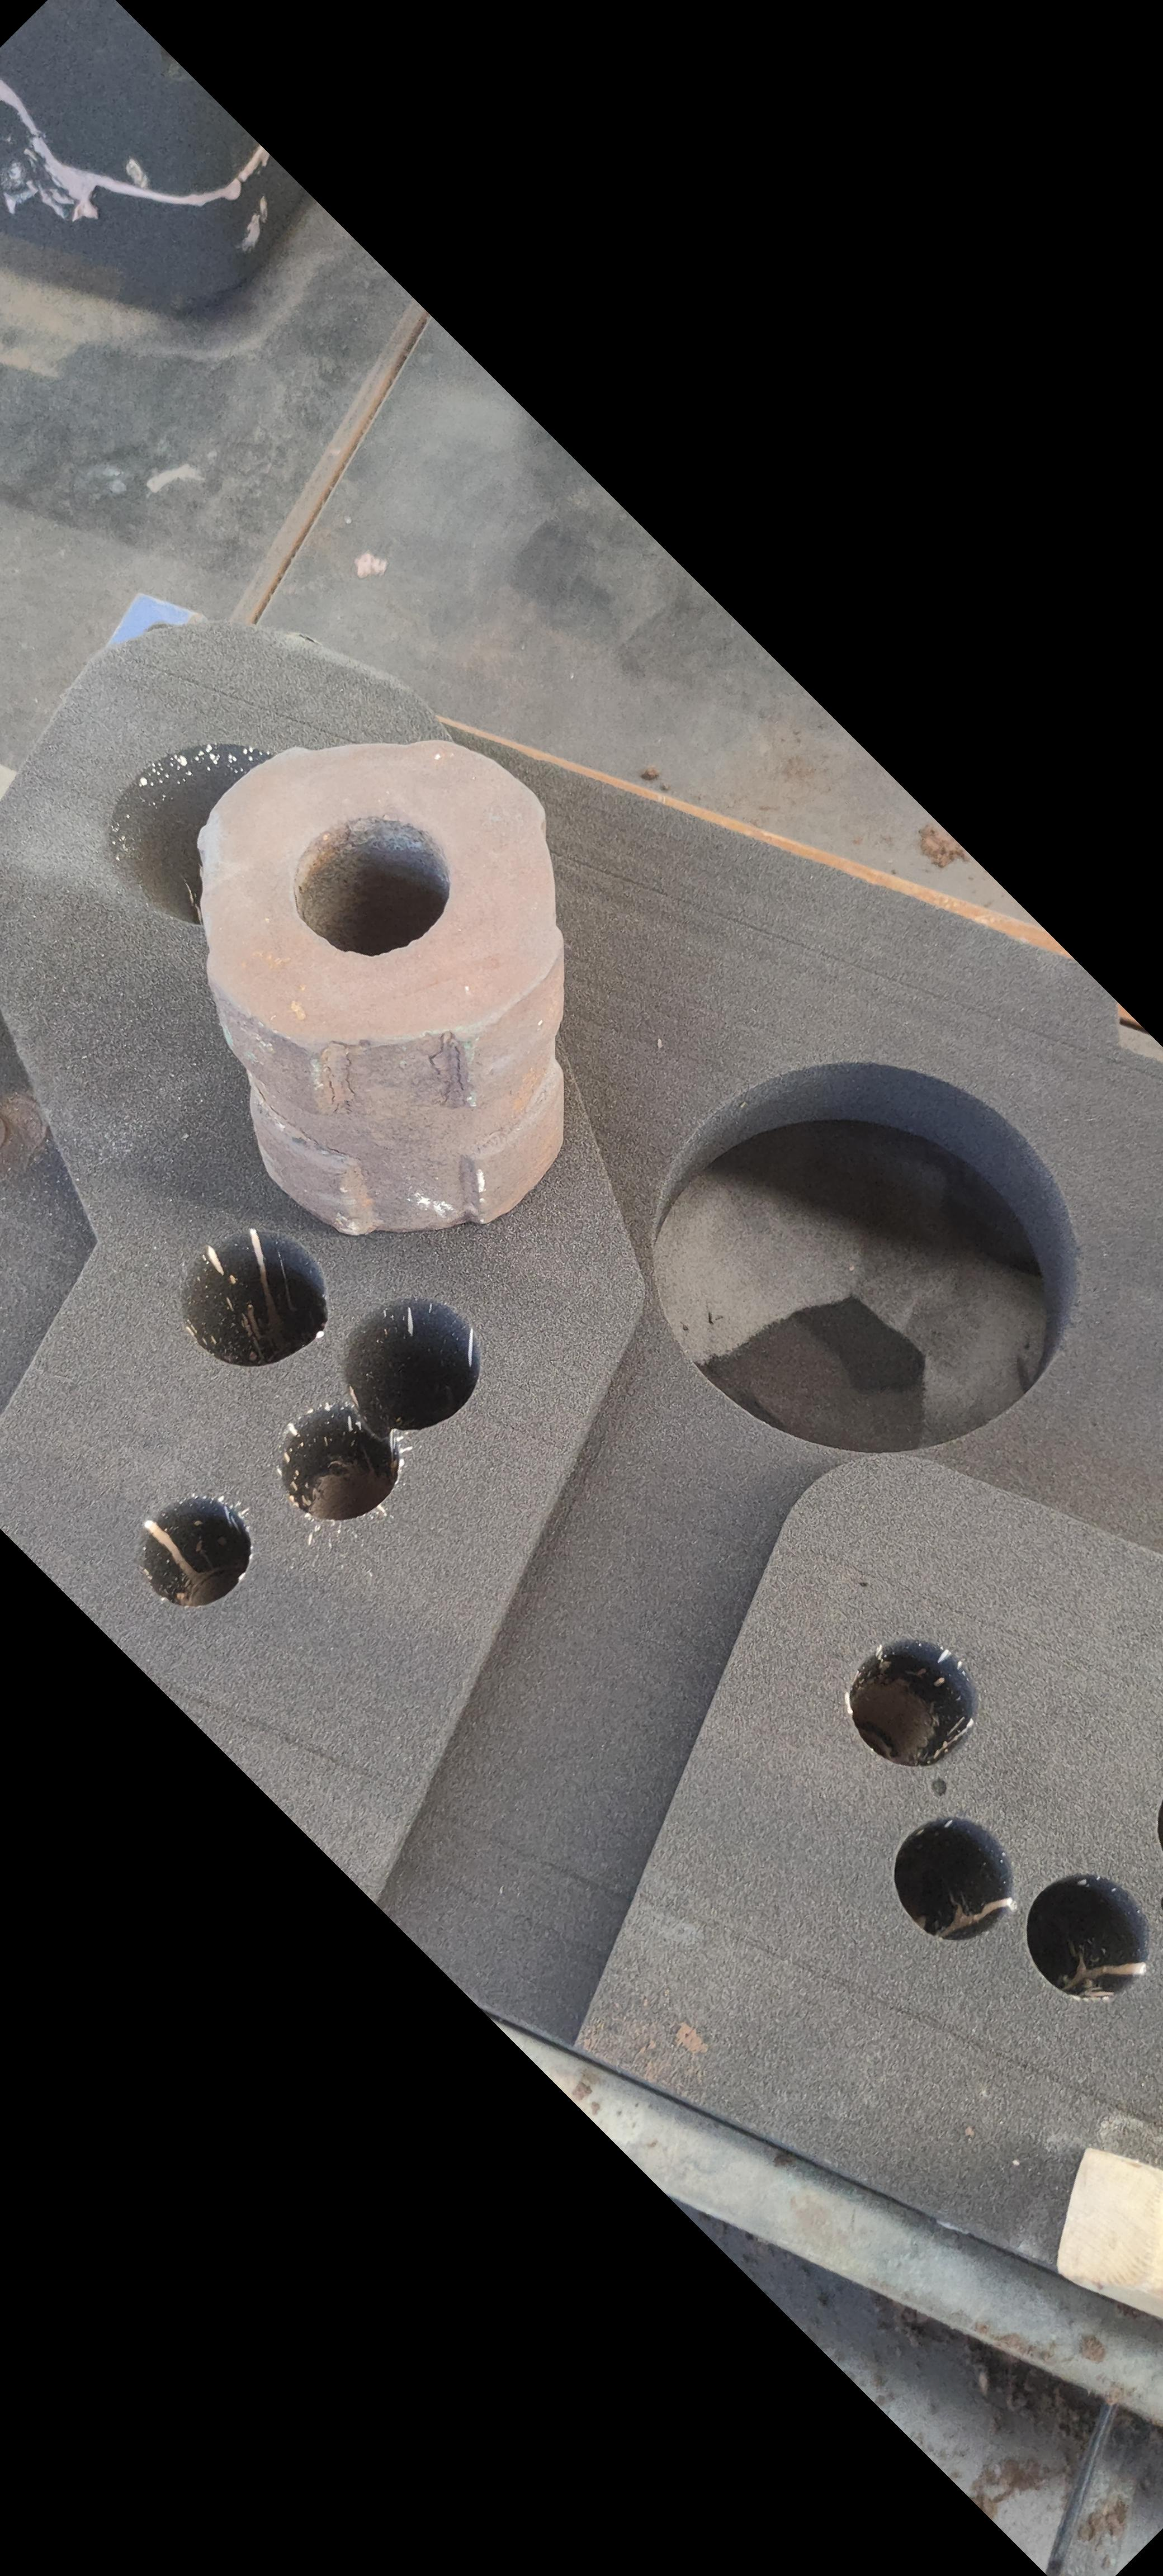pouring hole: (108, 743, 315, 928)
